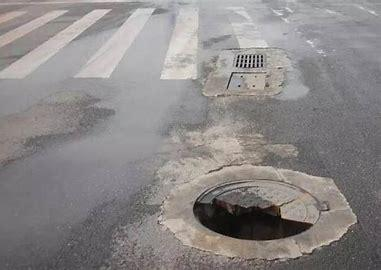wellcover: (184, 171, 334, 259), (224, 44, 274, 102)
